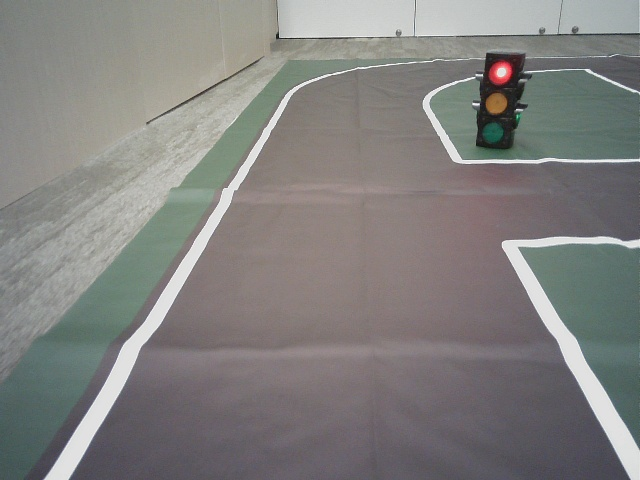red: (482, 55, 511, 147)
